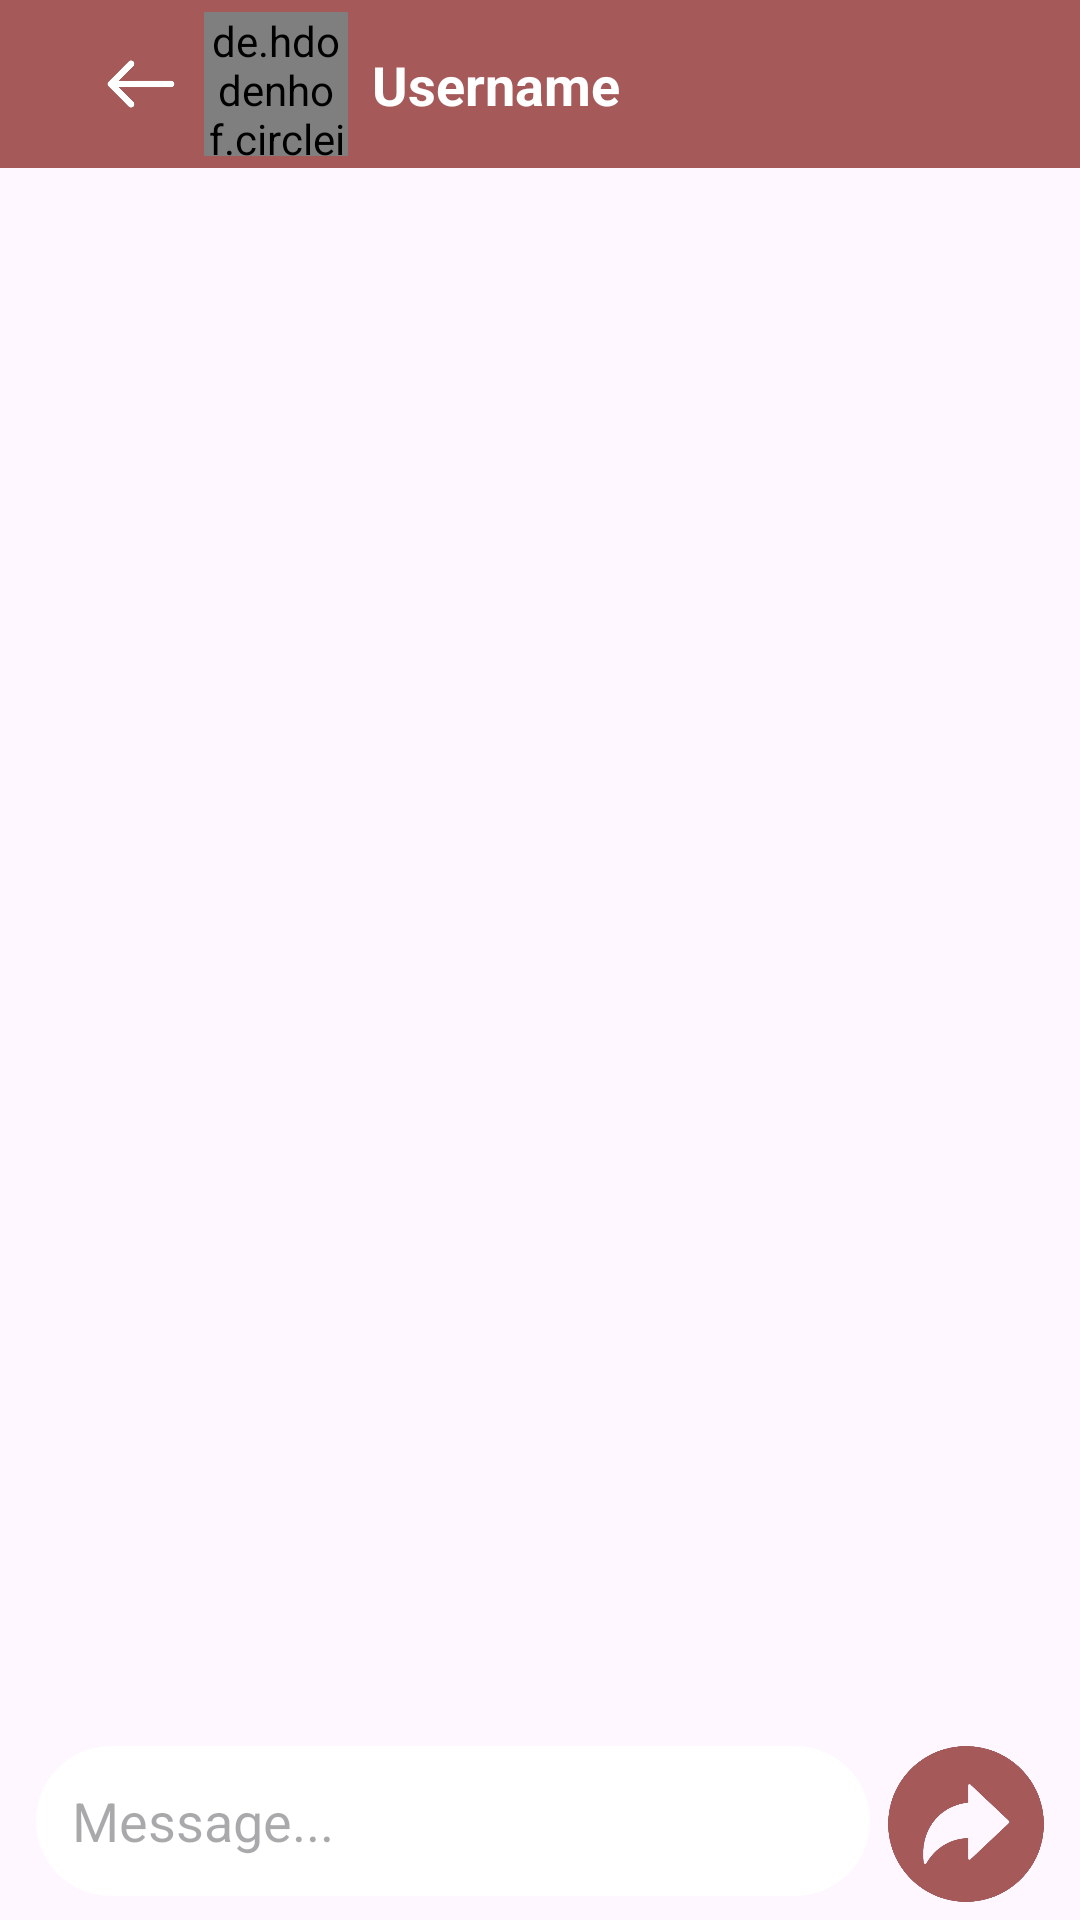

Screen size 1080px×1920px. Icon name, then its center in pixels as (x,y):
leftarrowwhite: (141,84)
share: (966,1824)
